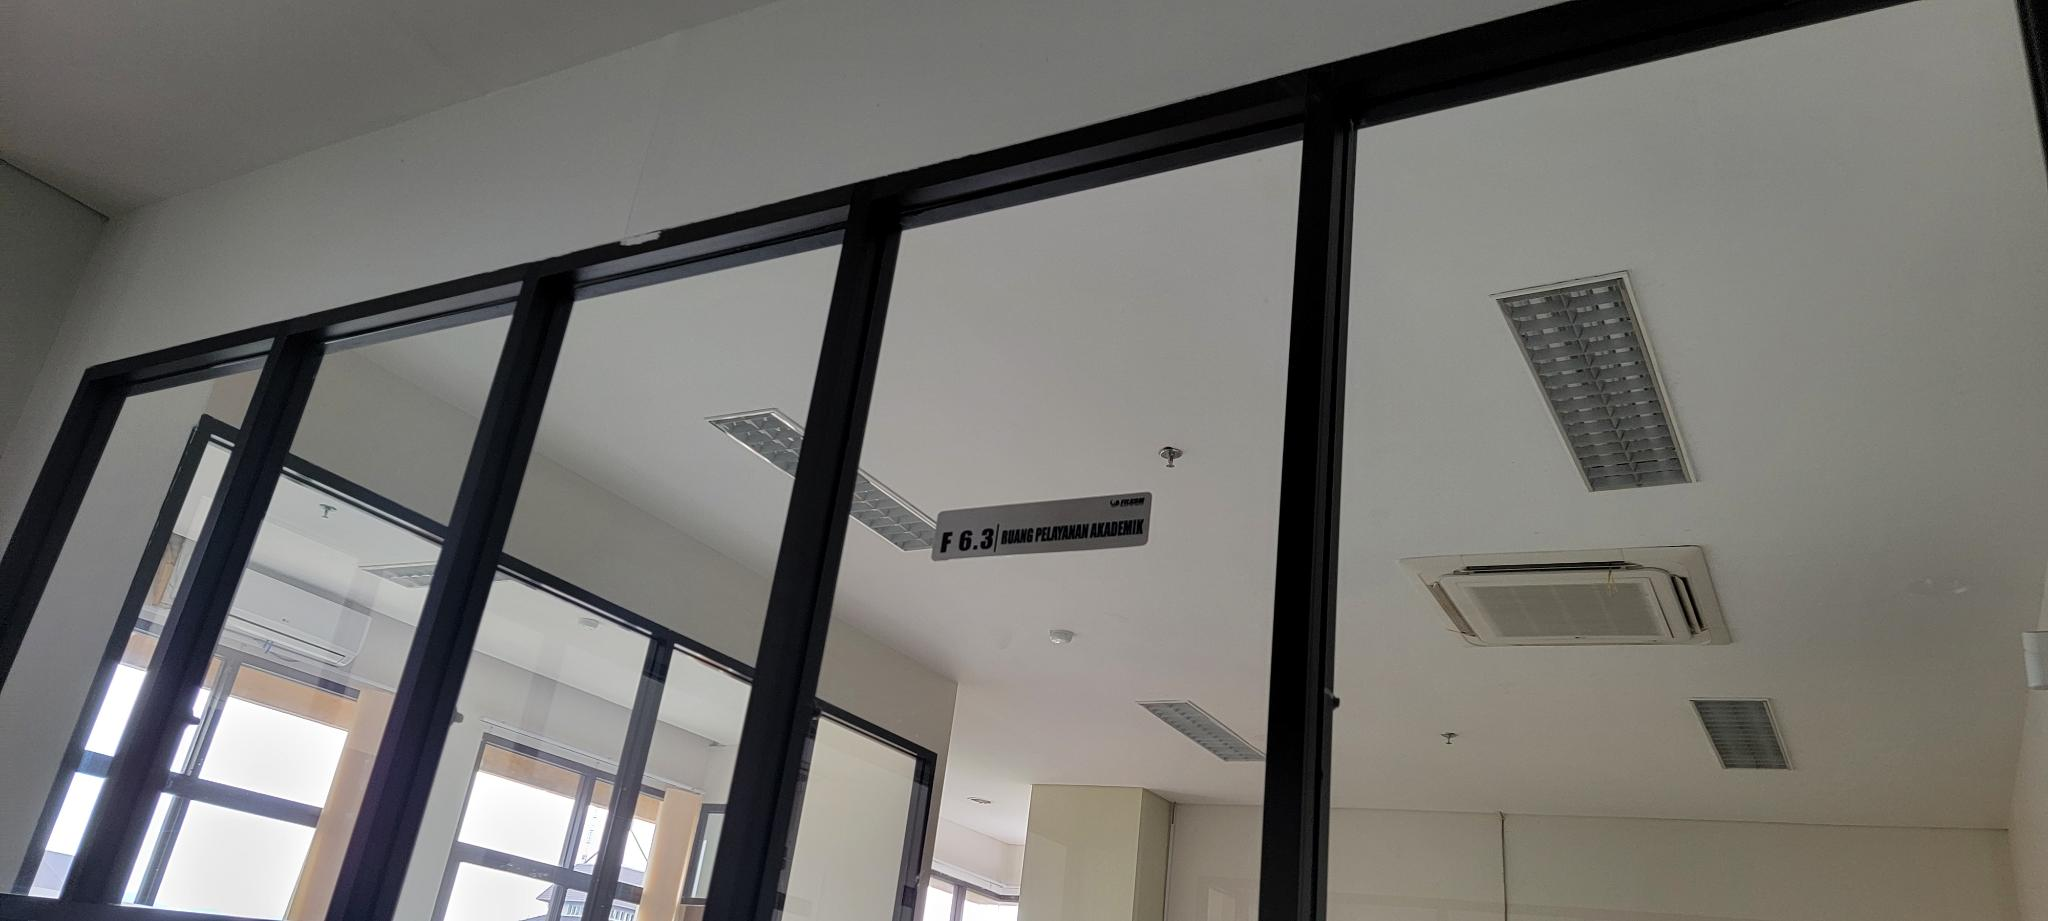plate: (930, 493, 1152, 563)
